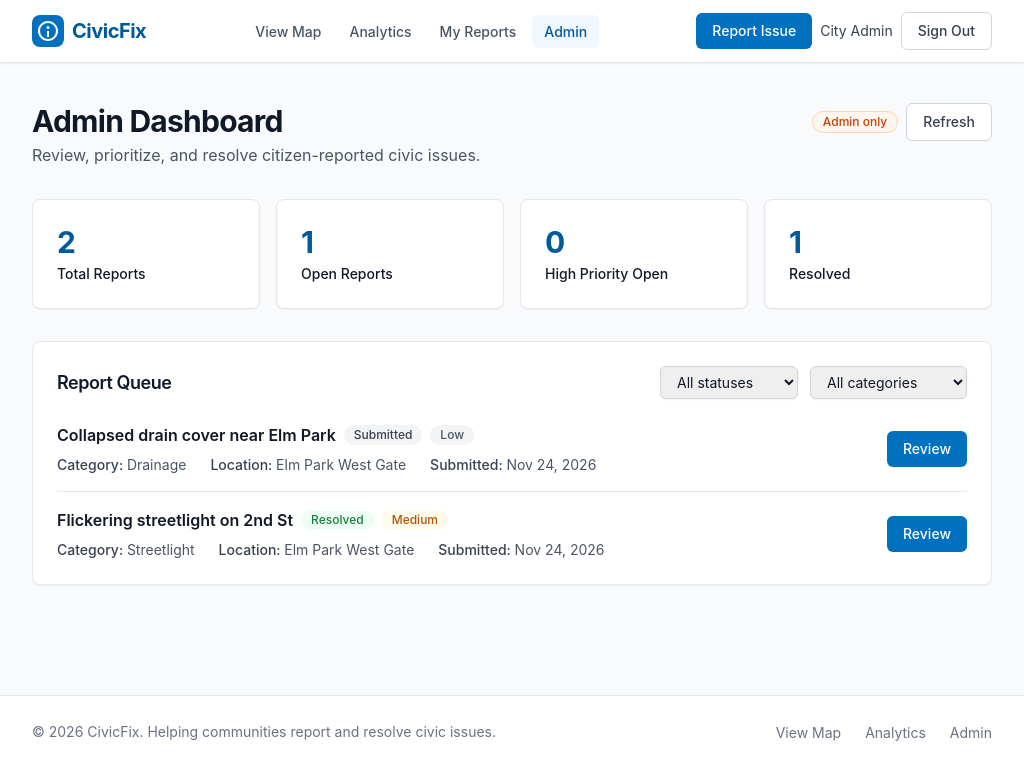
Test: Admin workflow (M3) › renders the admin dashboard queue for authenticated admins and supports filtering
The width and height of the screenshot is (1024, 768).
Expected: the heading "Collapsed drain cover near Elm Park" is shown, [57,423,336,447]
Expected: the heading "Flickering streetlight on 2nd St" is shown, [57,508,293,532]
Select "Resolved" in the dropdown named "filter by status" at [729, 382], box [660,366,798,399]
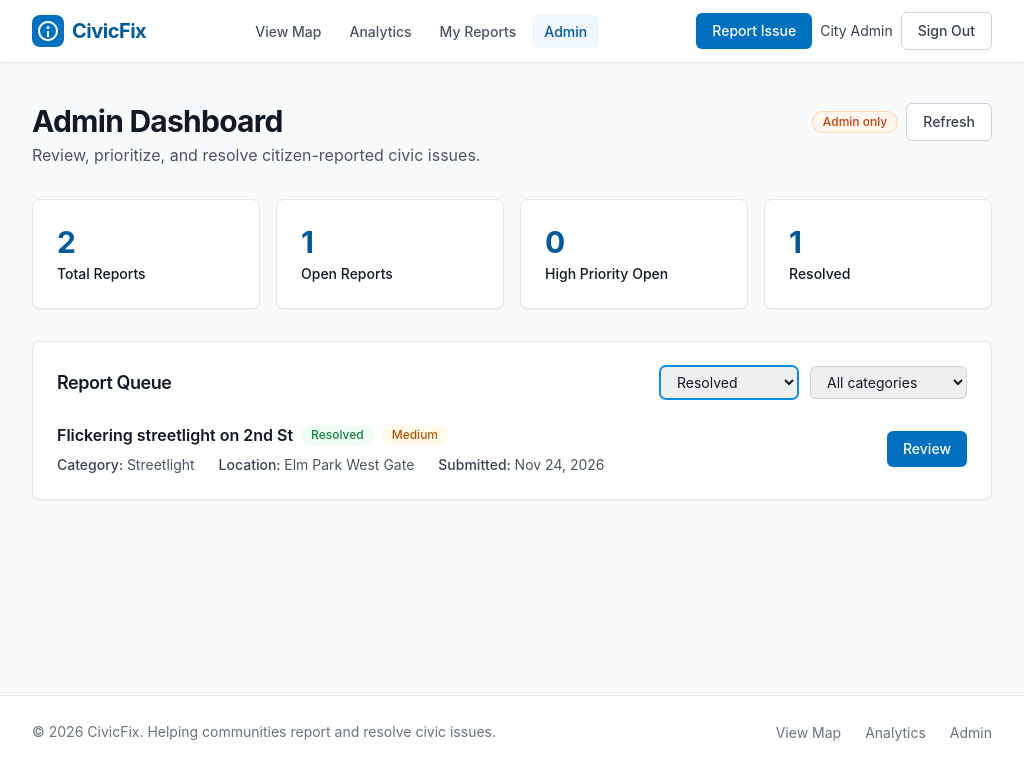
Expected: the heading "Flickering streetlight on 2nd St" is shown, [57,423,293,447]
Now the heading "Collapsed drain cover near Elm Park" is gone
